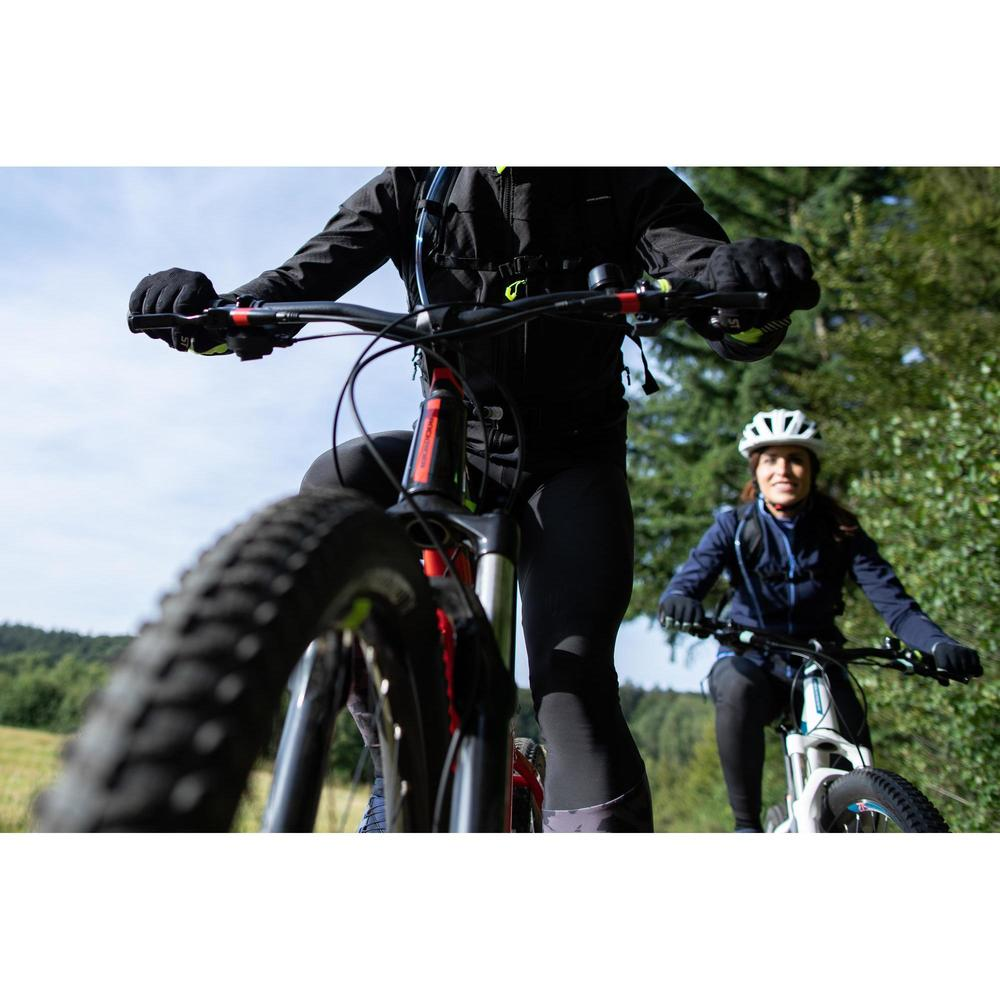MountainBike: (76, 198, 733, 844), (642, 587, 1000, 868)
